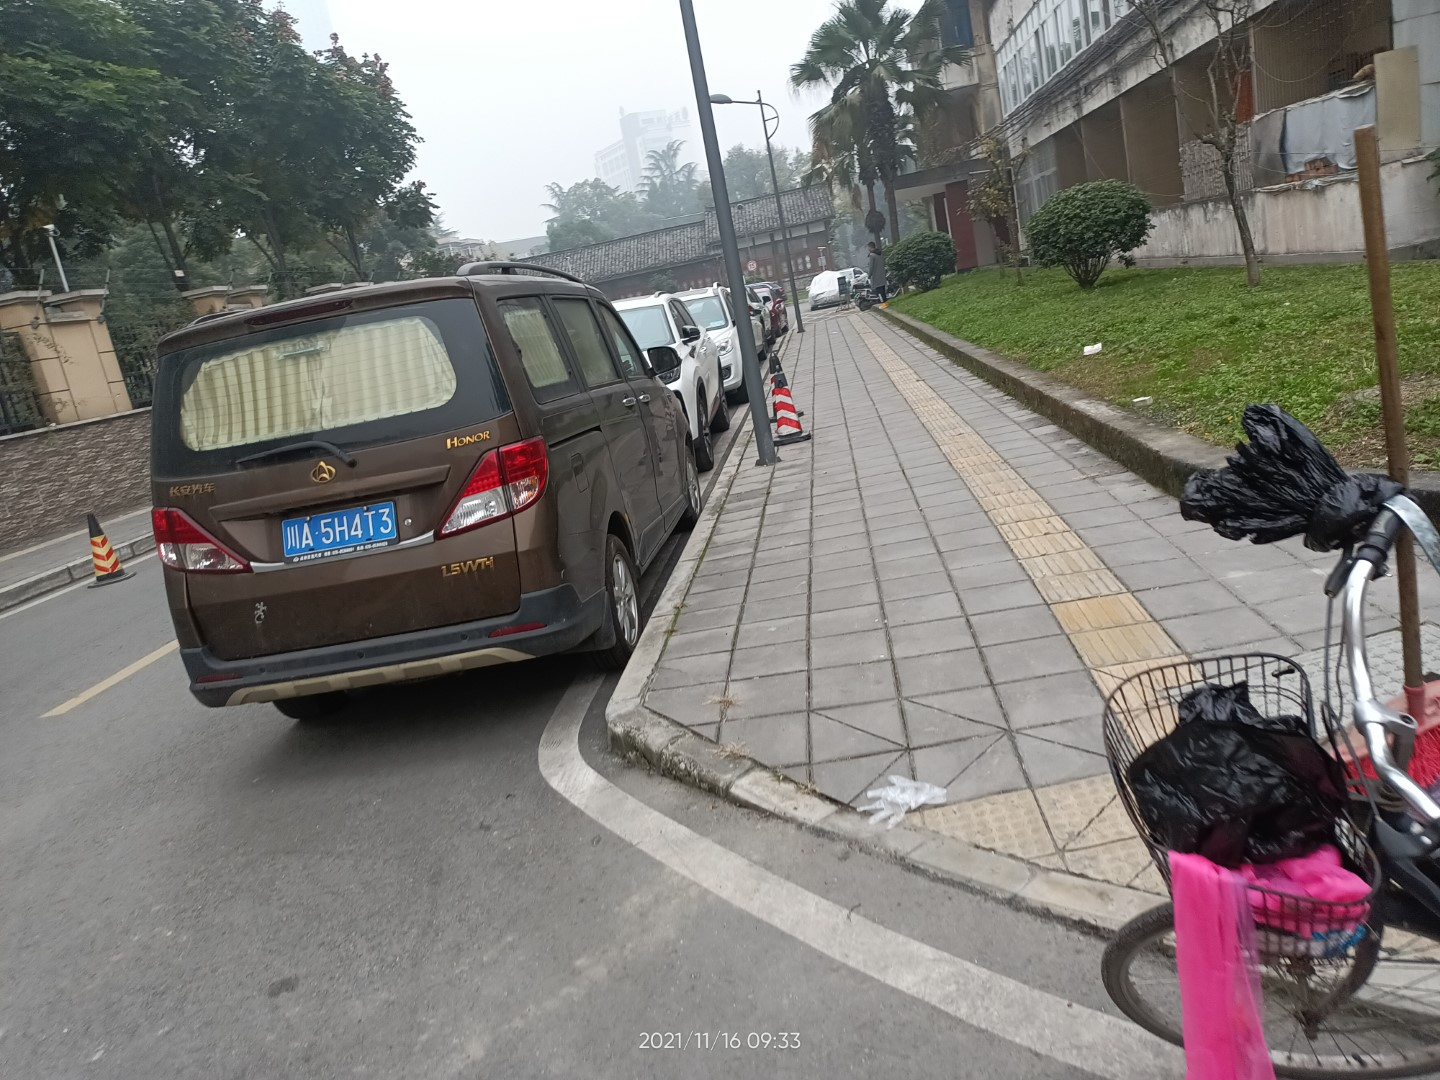plate: (280, 503, 396, 557)
